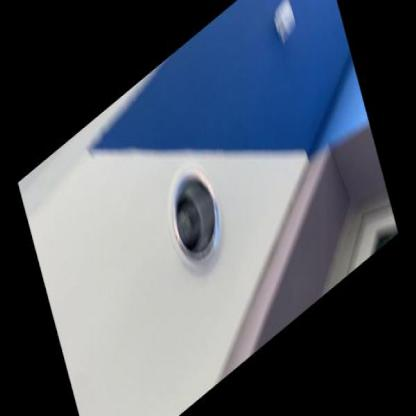light_off: (144, 128, 238, 306)
